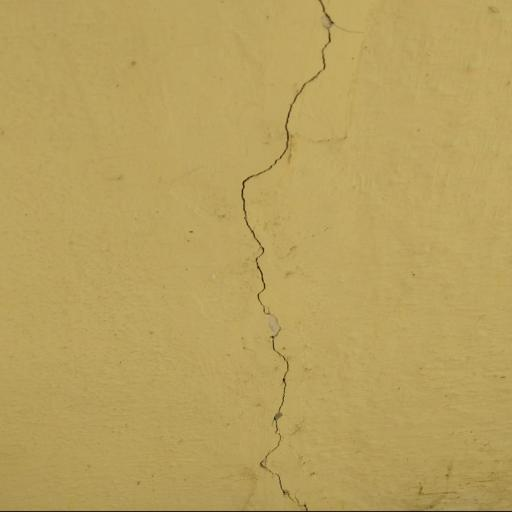major_crack: (227, 0, 337, 512)
